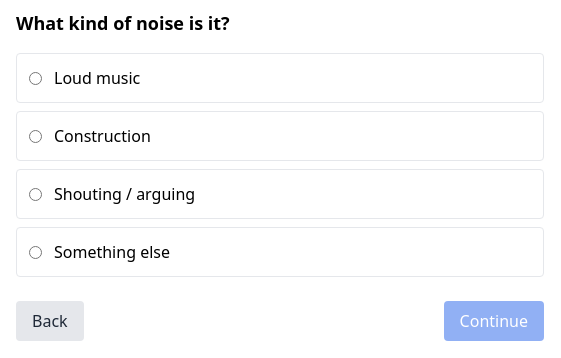
Test case: Noise type page › disables Continue until a noise type is chosen
Expected: the button "Continue" is disabled, [444, 301, 544, 341]
Check the radio button labelled "Construction" at (36, 137), box [29, 130, 42, 143]
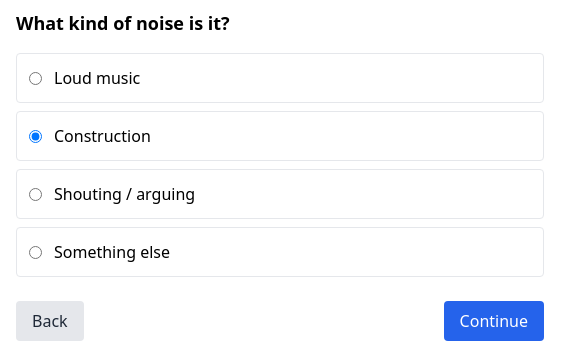
Now the button "Continue" is enabled, box [444, 301, 544, 341]
